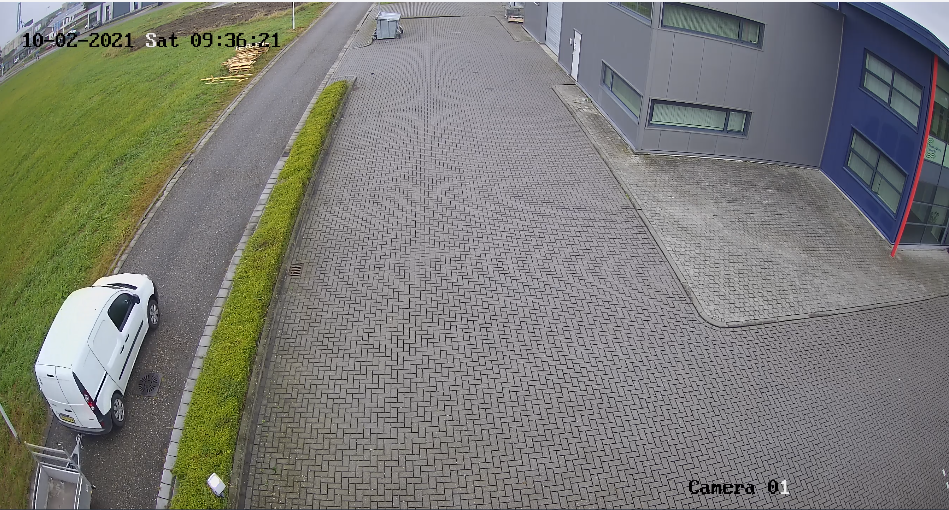werkbus: (28, 265, 169, 441)
